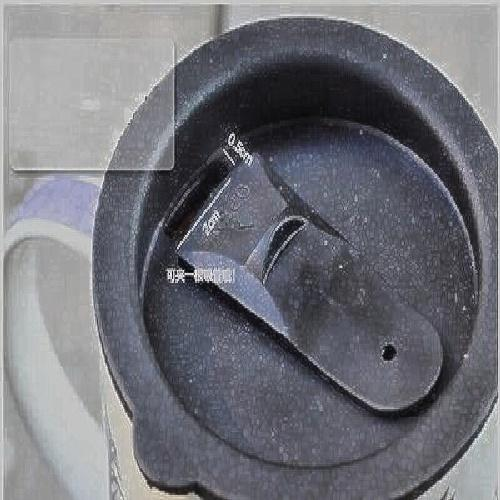mug: (114, 29, 493, 470)
